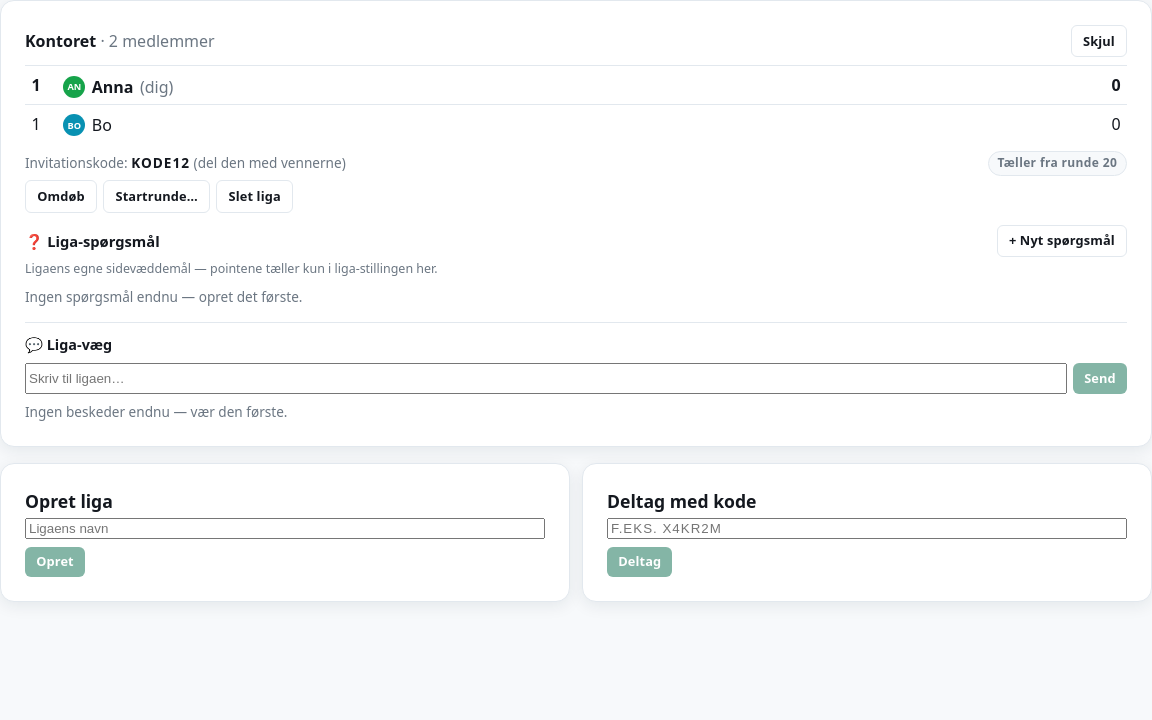
it: liga-kortet › følger spillets puljegrænse — badge og forklaring
Check: the text with test id "liga-startrunde" reads "Tæller fra runde 20", box [988,151,1127,176]
Click the button "Startrunde…".
click(157, 196)  # box [103,180,210,213]
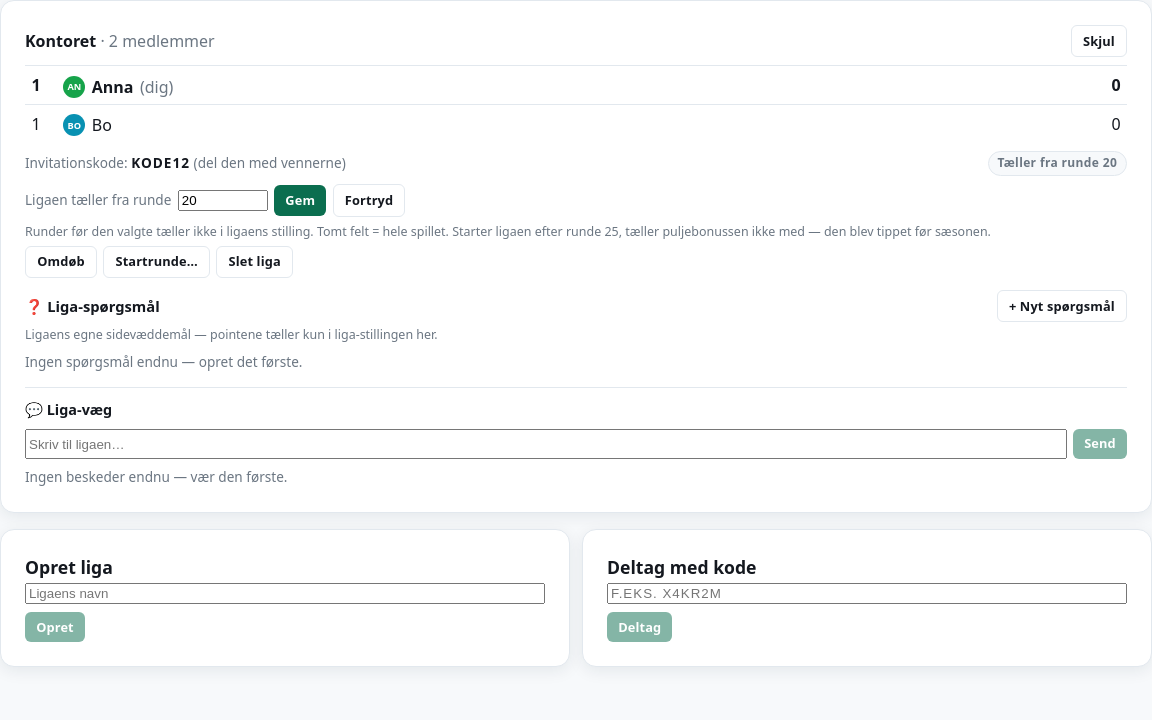
Check: the text "Starter ligaen efter runde 25, tæller puljebonussen ikke med" is shown, box [25,223,1127,242]
